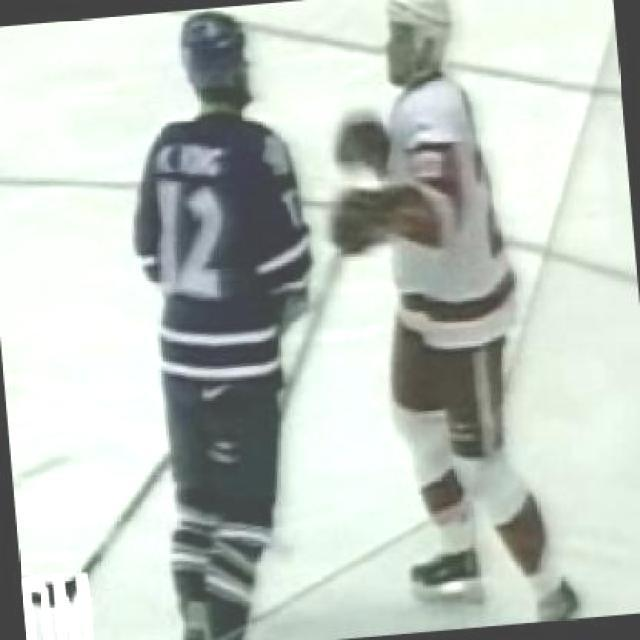non-fight: (311, 0, 591, 635), (112, 1, 346, 638)
